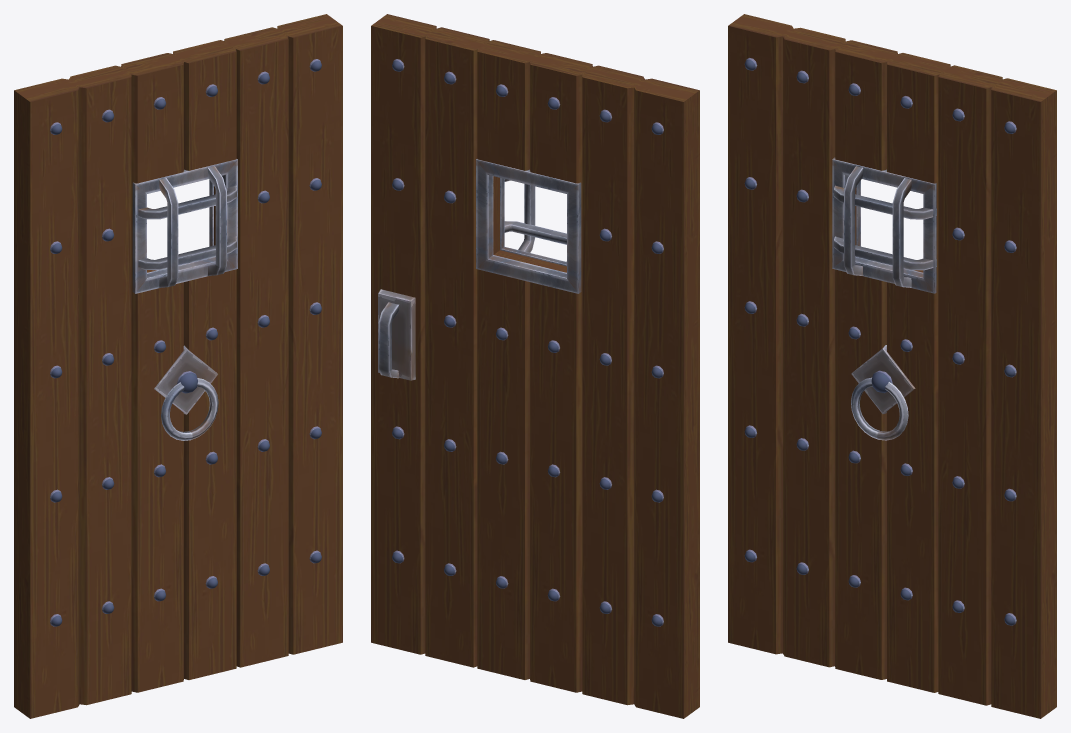
The model's file is Door_2_Flat.glb.
3 views of the same model, side by side, from view 1: azimuth 30°, elevation 25°; view 2: azimuth 150°, elevation 25°; view 3: azimuth 330°, elevation 25° (orthographic).
Parts seen in each view (by area): view 1: Door_2_Flat; view 2: Door_2_Flat; view 3: Door_2_Flat.
Part boxes in pixels (box(x1,y1,x2,y2)): Door_2_Flat: box(14, 14, 342, 718); Door_2_Flat: box(371, 14, 699, 718); Door_2_Flat: box(728, 14, 1056, 718).
Size of the model in its own units: 1.11 by 2.1 by 0.2608.
Materials: 2 (2 with a texture image).
